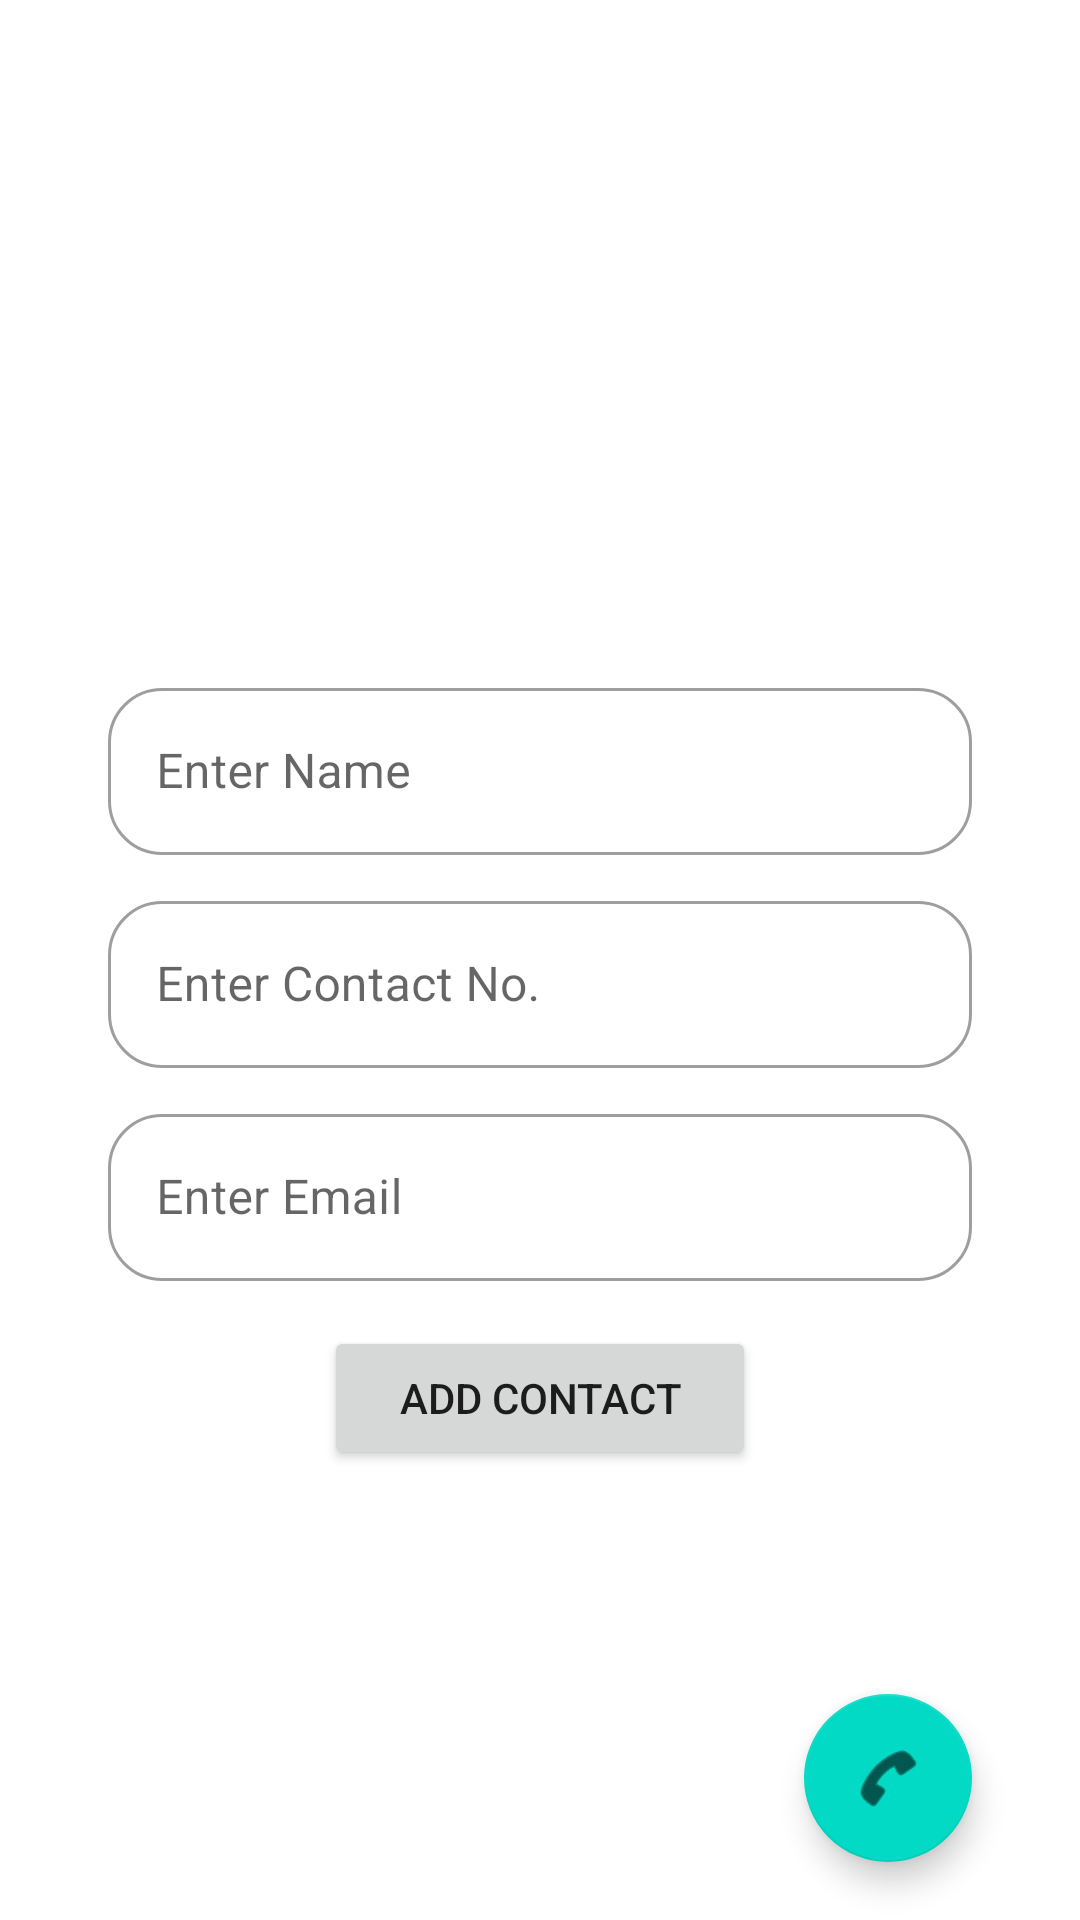

Icons on this 1080px x 1920px Android screen, each with the point to tap as (x=x, y=y):
call: (x=888, y=1778)
